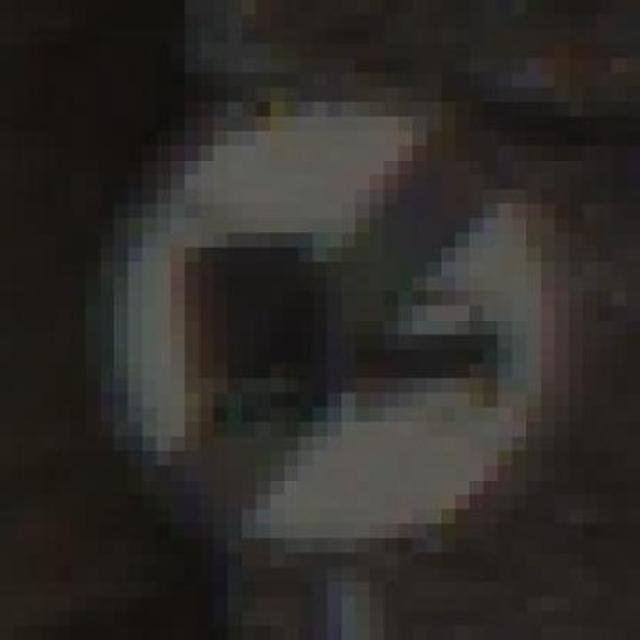Overtaking by trucks is prohibited: (56, 44, 612, 582)
